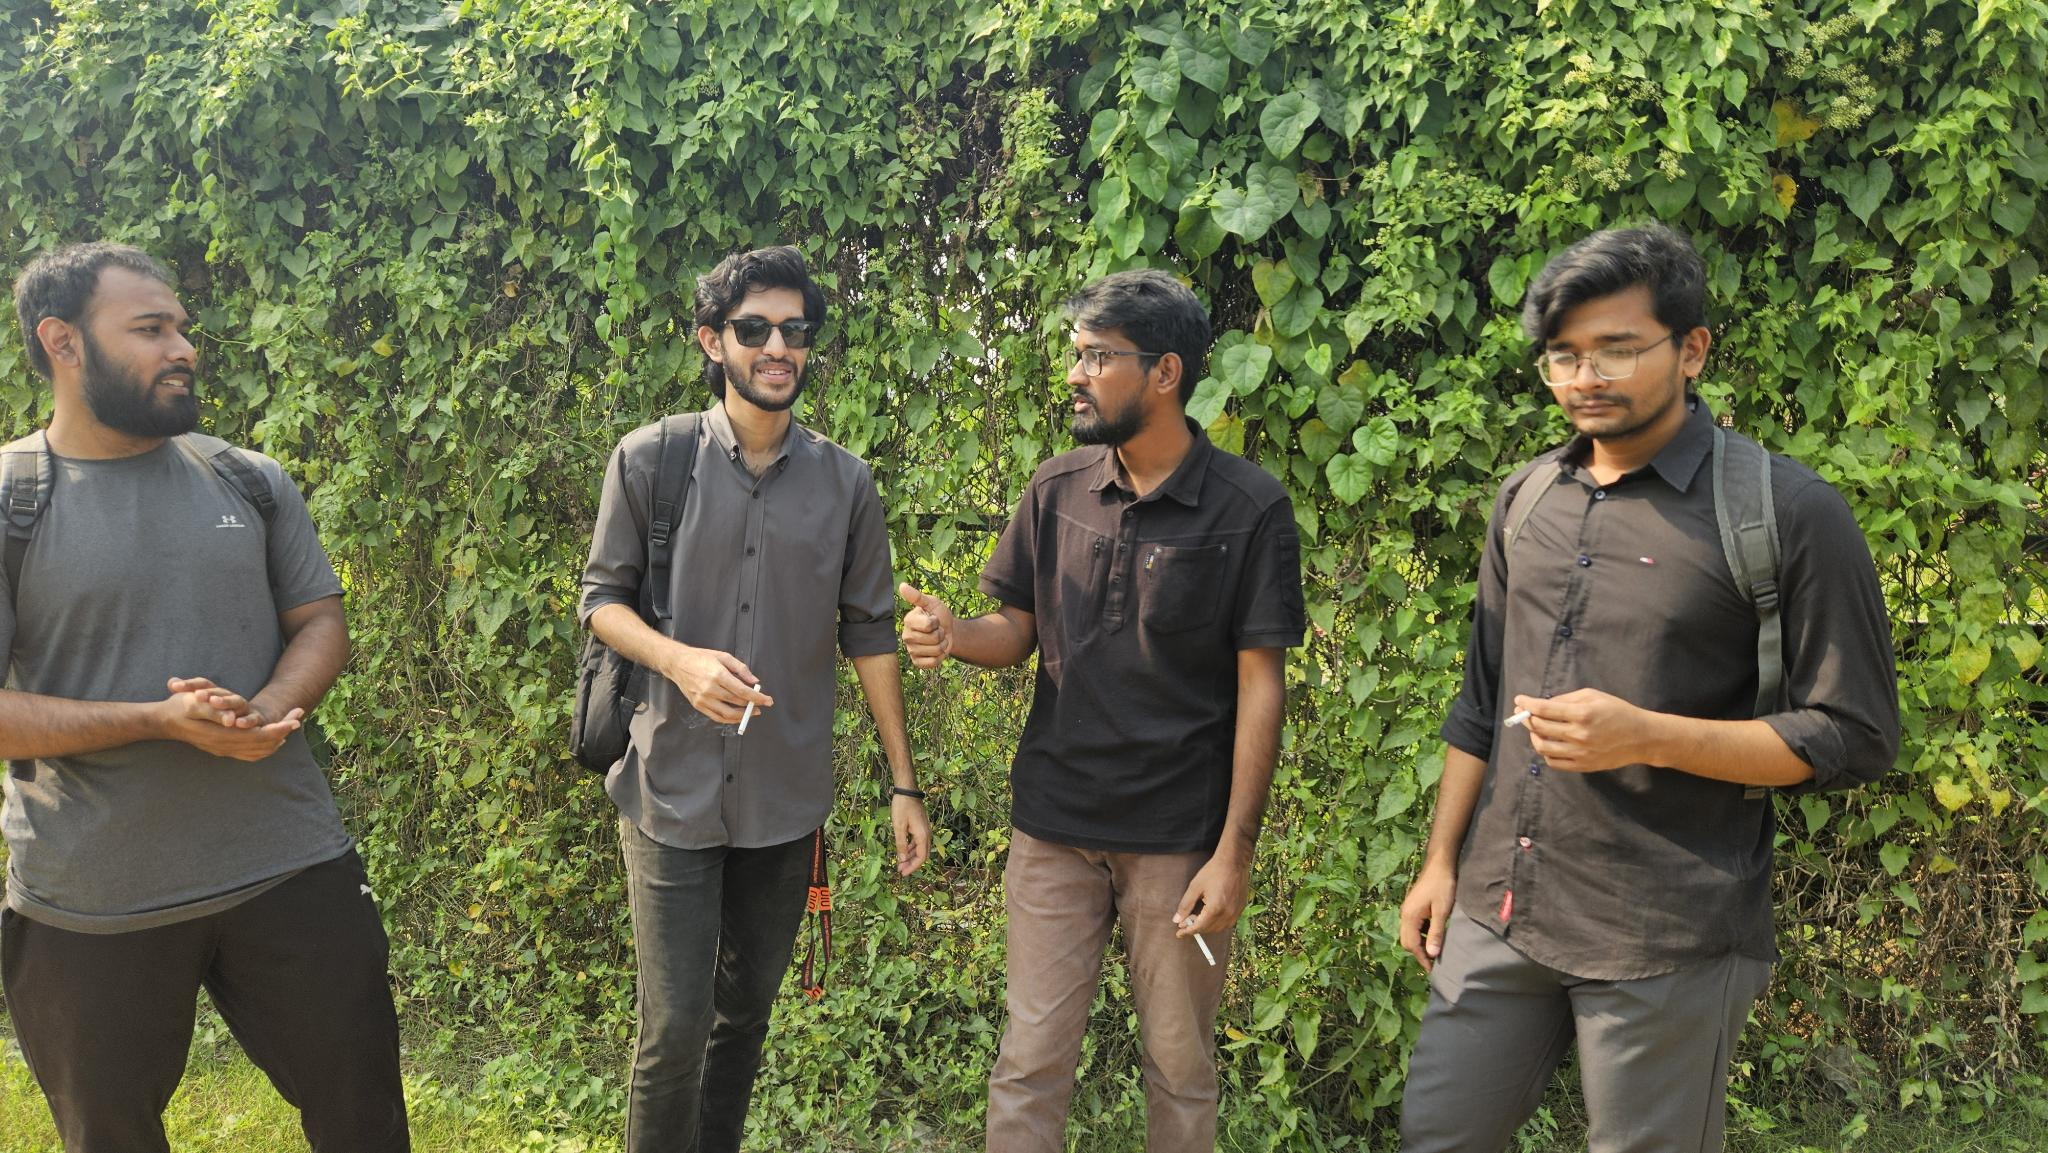cigarette: (1183, 915, 1217, 966), (736, 683, 762, 737), (1504, 709, 1533, 728)
nonSmoker: (0, 239, 412, 1153)
smoker: (1398, 226, 1902, 1153), (899, 270, 1307, 1153), (568, 247, 933, 1153)
